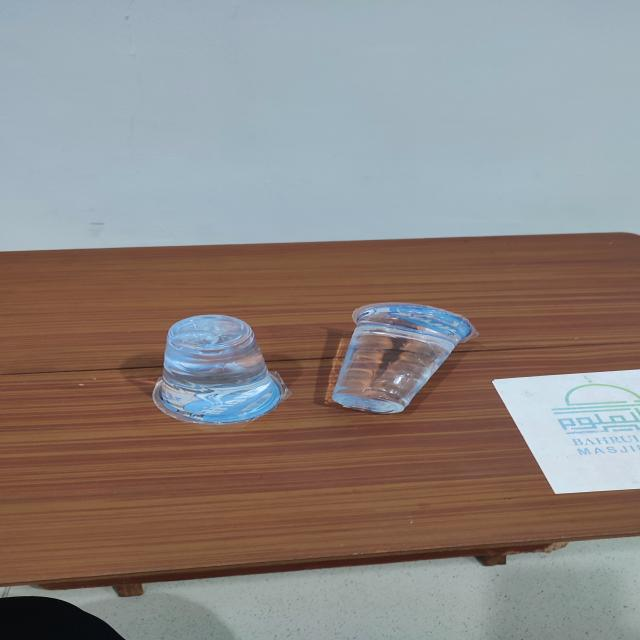air gelas: (319, 297, 485, 417), (147, 312, 297, 427)
